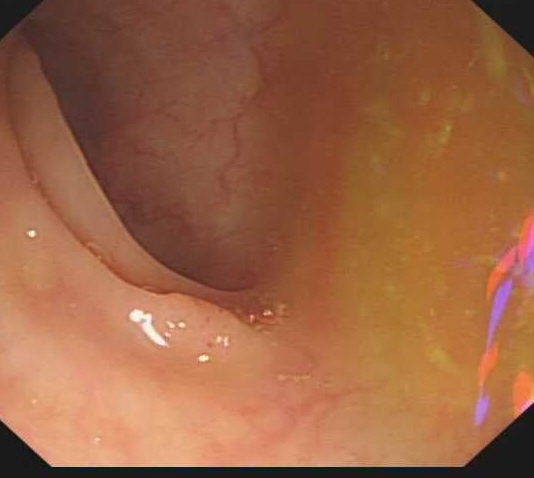adenoma: (122, 290, 246, 361)
